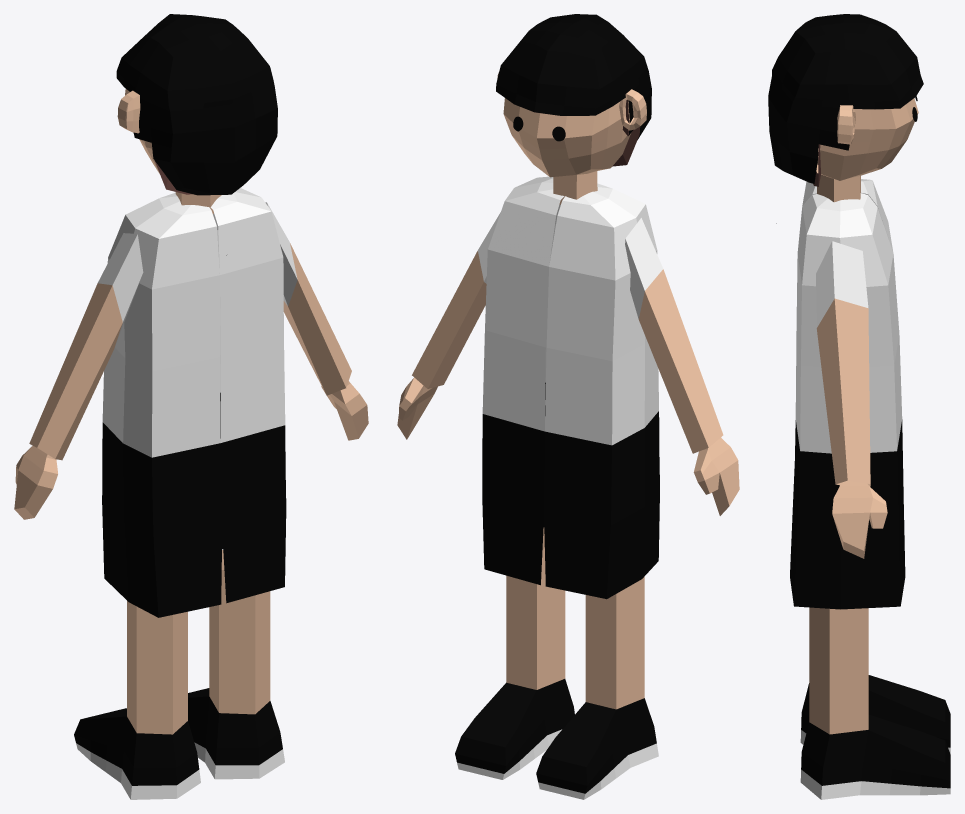
The model's file is student02(sit).fbx.
3 views of the same model, side by side, from view 1: azimuth 30°, elevation 25°; view 2: azimuth 150°, elevation 25°; view 3: azimuth 270°, elevation 25° (orthographic). The views are drawn at different scales.
Visible parts, largest first — view 1: stu02_body, stu02_leg, stu02_hair, stu02_arm, stu02_ear; view 2: stu02_body, stu02_leg, stu02_arm, stu02_hair, stu02_head, stu02_neck, stu02_ear; view 3: stu02_body, stu02_leg, stu02_hair, stu02_arm, stu02_head, stu02_neck, stu02_ear.
Part boxes in pixels (x1,y1,x2,y2): stu02_body: [102, 188, 286, 617]; stu02_leg: [74, 550, 284, 799]; stu02_hair: [116, 14, 277, 195]; stu02_arm: [14, 202, 368, 519]; stu02_ear: [117, 90, 140, 133]; stu02_body: [482, 176, 659, 599]; stu02_leg: [455, 527, 658, 799]; stu02_arm: [397, 212, 739, 515]; stu02_hair: [496, 14, 651, 139]; stu02_head: [503, 98, 640, 177]; stu02_neck: [553, 171, 597, 204]; stu02_ear: [497, 72, 646, 130]; stu02_body: [790, 179, 905, 609]; stu02_leg: [800, 607, 950, 799]; stu02_hair: [768, 14, 923, 183]; stu02_arm: [816, 241, 887, 558]; stu02_head: [813, 98, 918, 186]; stu02_neck: [817, 156, 860, 202]; stu02_ear: [837, 105, 855, 144].
Size of the model in its own units: 174 by 80.95 by 362.
